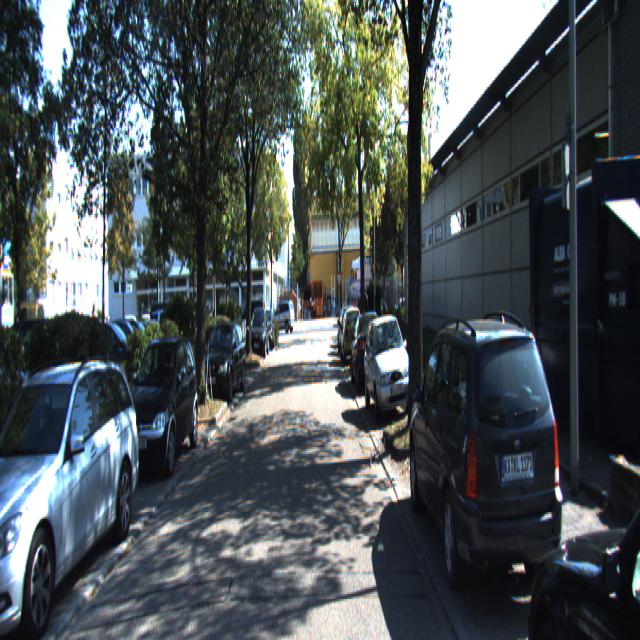Car: (406, 304, 569, 636), (0, 354, 144, 638), (536, 317, 640, 638), (120, 329, 199, 485), (363, 309, 416, 423), (201, 318, 248, 406), (349, 311, 388, 396), (340, 305, 364, 367), (249, 306, 269, 359), (268, 300, 296, 330)
